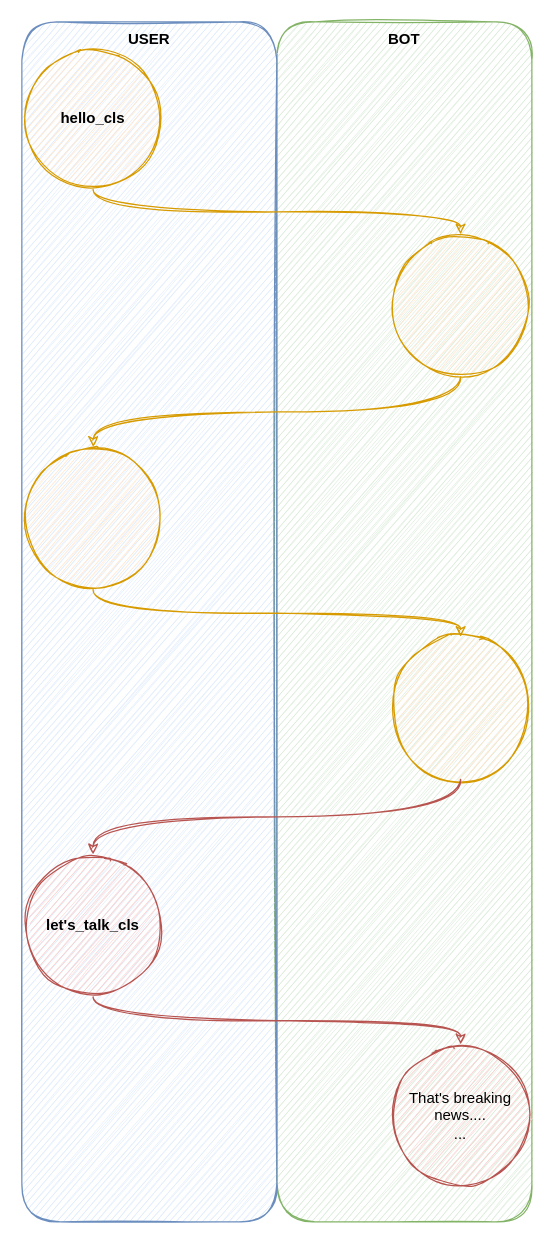
Image size: 554x1244. Some labels were removed from this diagram. Here are the shapes that lost their labels. From the top down, the centre of each, then its label:
the point at 460,305: How are you? How r u ? What is up? ...
the point at 92,517: ok_cls
the point at 460,707: Fine. I'm ok. Ok. ...
